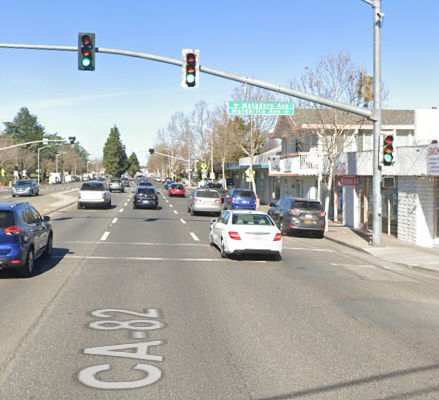green_light: (183, 49, 198, 88), (78, 34, 93, 69), (381, 133, 394, 164)
